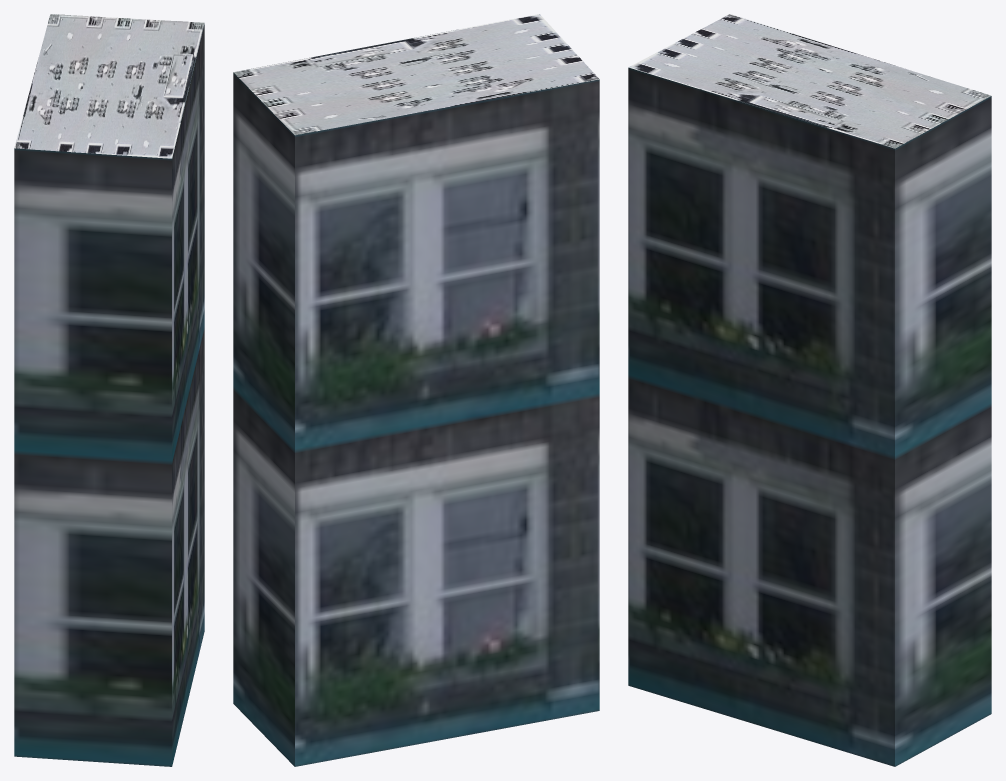
File: ResTex__2739.fbx
The picture shows the model from 3 angles, left to right: view 1: azimuth 30°, elevation 25°; view 2: azimuth 150°, elevation 25°; view 3: azimuth 270°, elevation 25°; orthographic projection. The views are drawn at different scales.
Visible parts, largest first — view 1: CityEngineMaterial_11_m, CityEngineMaterial_4_m; view 2: CityEngineMaterial_11_m, CityEngineMaterial_4_m; view 3: CityEngineMaterial_11_m, CityEngineMaterial_4_m.
Boxes of the visible parts, <box> form: CityEngineMaterial_11_m: <box>14,24,204,766</box>; CityEngineMaterial_4_m: <box>14,14,204,158</box>; CityEngineMaterial_11_m: <box>233,72,599,766</box>; CityEngineMaterial_4_m: <box>233,14,598,135</box>; CityEngineMaterial_11_m: <box>628,67,991,766</box>; CityEngineMaterial_4_m: <box>628,14,991,148</box>.
Bounding box in the file's own units: 2.8 × 6 × 3.2.
Materials: 2 (2 with a texture image).
